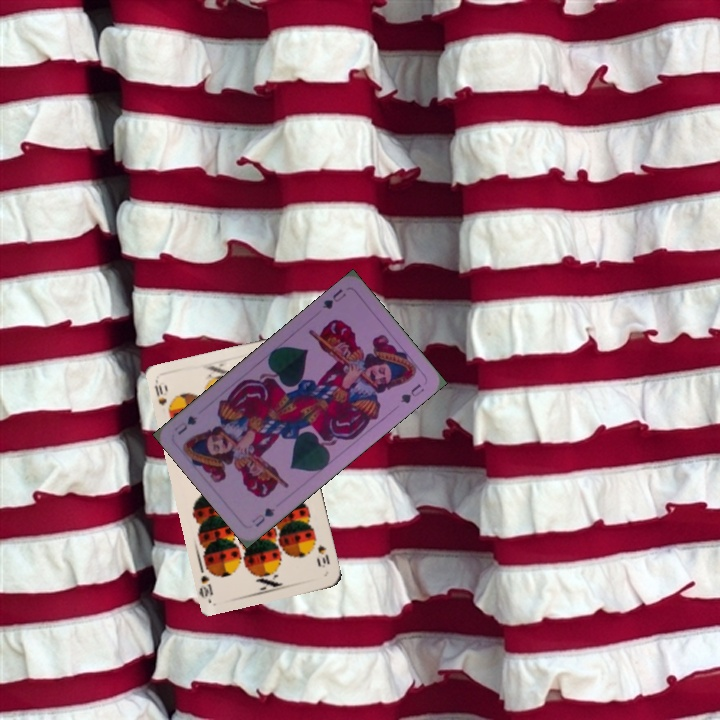GU: (318, 284, 349, 312), (248, 504, 278, 530)
S10: (150, 378, 169, 408), (314, 541, 332, 570)
